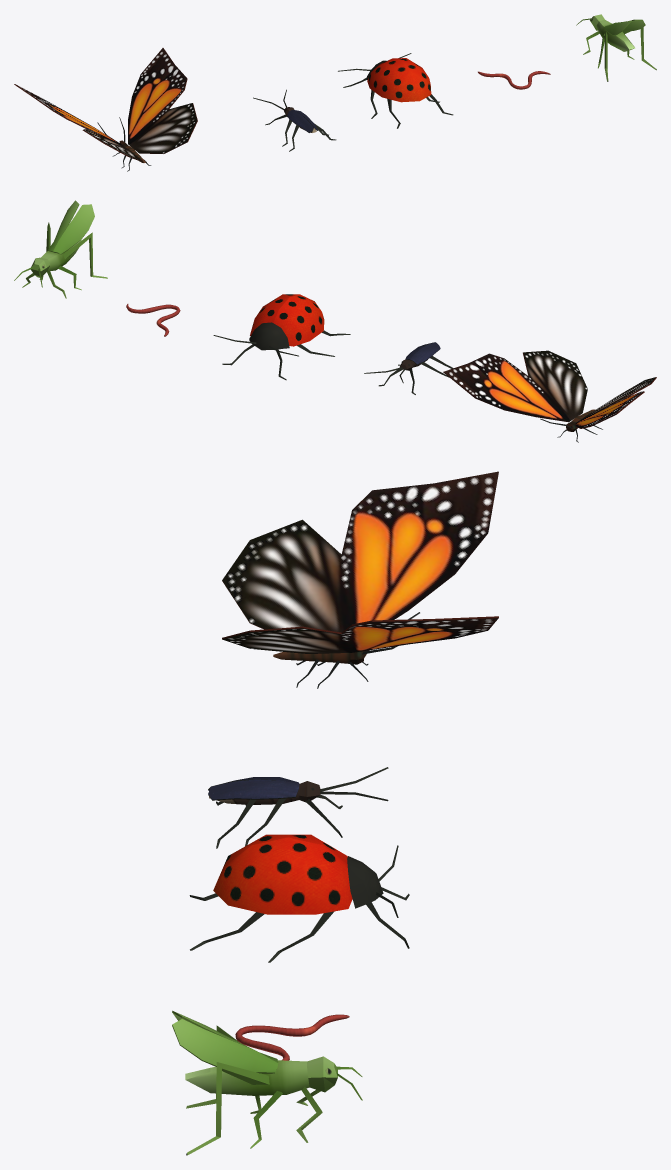
File: Insect_01.FBX
The picture shows the model from 3 angles, top to bottom: view 1: azimuth 30°, elevation 25°; view 2: azimuth 150°, elevation 25°; view 3: azimuth 270°, elevation 25°; orthographic projection. The views are drawn at different scales.
Visible parts, largest first — view 1: Butterfly_Wing_Right_01, Bug_Wing_Left_01, Insect_01, Butterfly_Wing_Left_01, Bug_Wing_Right_01, Bug_01, Fireflies_01, Worm_01, Fireflies_Wing_Left_01, Butterfly_01; view 2: Butterfly_Wing_Right_01, Bug_Wing_Left_01, Insect_01, Bug_01, Butterfly_Wing_Left_01, Insect_Wing_Left_01, Bug_Wing_Right_01, Fireflies_01, Worm_01, Insect_Wing_Right_01; view 3: Butterfly_Wing_Left_01, Bug_Wing_Right_01, Butterfly_Wing_Right_01, Insect_01, Insect_Wing_Right_01, Bug_01, Fireflies_01, Fireflies_Wing_Right_01, Worm_01, Butterfly_01.
Part boxes in pixels (box(x1,y1,x2,y2)): Butterfly_Wing_Right_01: box(128, 48, 197, 153); Bug_Wing_Left_01: box(367, 58, 419, 102); Insect_01: box(576, 14, 656, 81); Butterfly_Wing_Left_01: box(14, 84, 138, 160); Bug_Wing_Right_01: box(393, 58, 431, 100); Bug_01: box(338, 53, 453, 128); Fireflies_01: box(253, 89, 336, 151); Worm_01: box(478, 71, 550, 89); Fireflies_Wing_Left_01: box(287, 110, 313, 132); Butterfly_01: box(97, 117, 151, 171); Butterfly_Wing_Right_01: box(443, 350, 587, 422); Bug_Wing_Left_01: box(273, 294, 324, 346); Insect_01: box(14, 222, 107, 298); Bug_01: box(213, 322, 350, 380); Butterfly_Wing_Left_01: box(575, 377, 656, 428); Insect_Wing_Left_01: box(53, 204, 94, 254); Bug_Wing_Right_01: box(250, 294, 298, 335); Fireflies_01: box(364, 356, 453, 394); Worm_01: box(126, 304, 180, 336); Insect_Wing_Right_01: box(47, 200, 79, 251); Butterfly_Wing_Left_01: box(222, 471, 498, 632); Bug_Wing_Right_01: box(213, 837, 352, 914); Butterfly_Wing_Right_01: box(222, 616, 498, 653); Insect_01: box(185, 1025, 362, 1155); Insect_Wing_Right_01: box(172, 1019, 278, 1073); Bug_01: box(189, 845, 409, 962); Fireflies_01: box(209, 767, 388, 848); Fireflies_Wing_Right_01: box(208, 779, 299, 800); Worm_01: box(235, 1014, 349, 1060); Butterfly_01: box(273, 612, 419, 688).
Size of the model in its own units: 7.25 by 0.8208 by 1.82.
